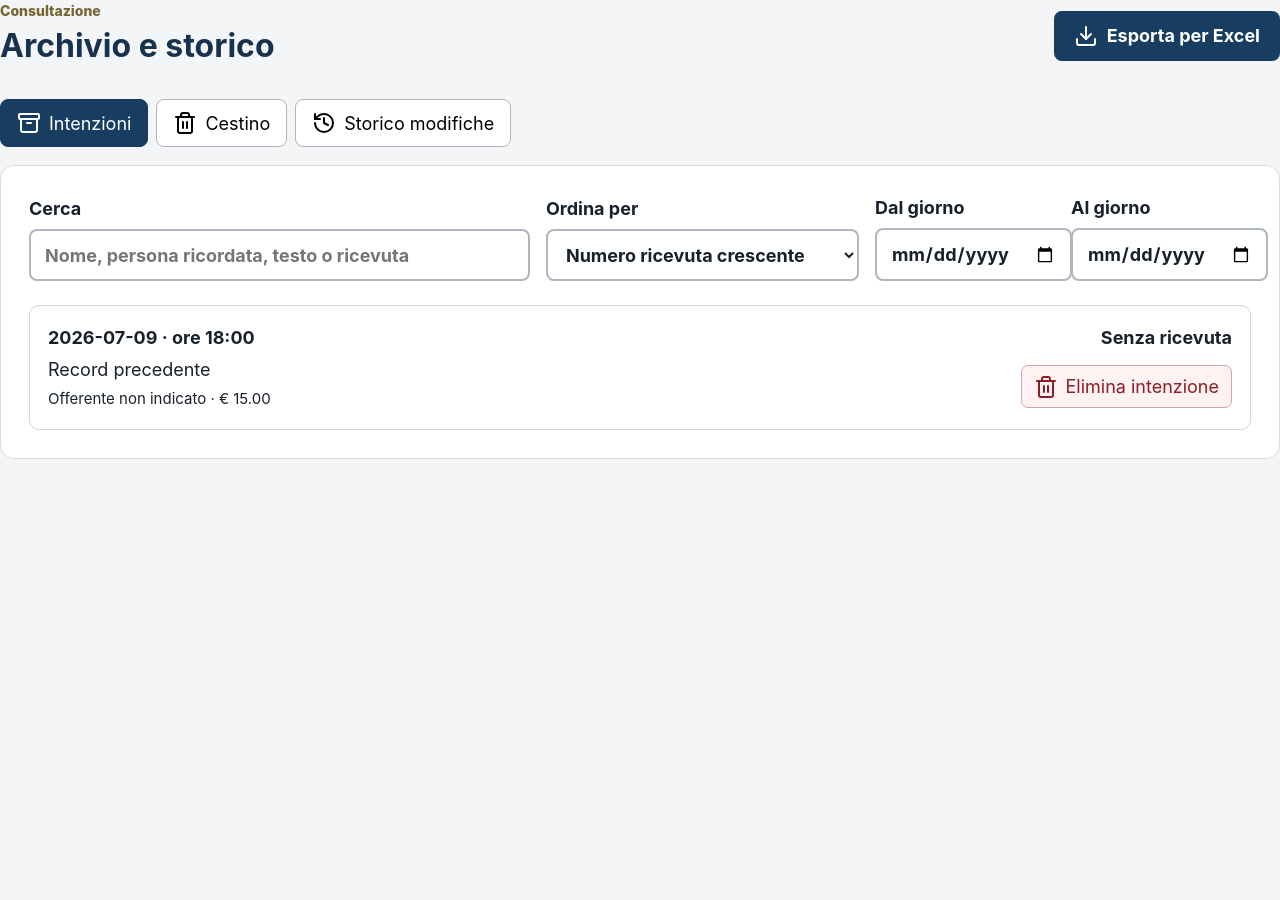
it: archivio con ricevuta mancante › propone di eliminare l'intenzione invece di annullare una ricevuta inesistente
Expected: the text "Senza ricevuta" is shown, [1101, 327, 1232, 348]
Click the button "Elimina intenzione".
click(1127, 387)  # box [1022, 365, 1232, 408]
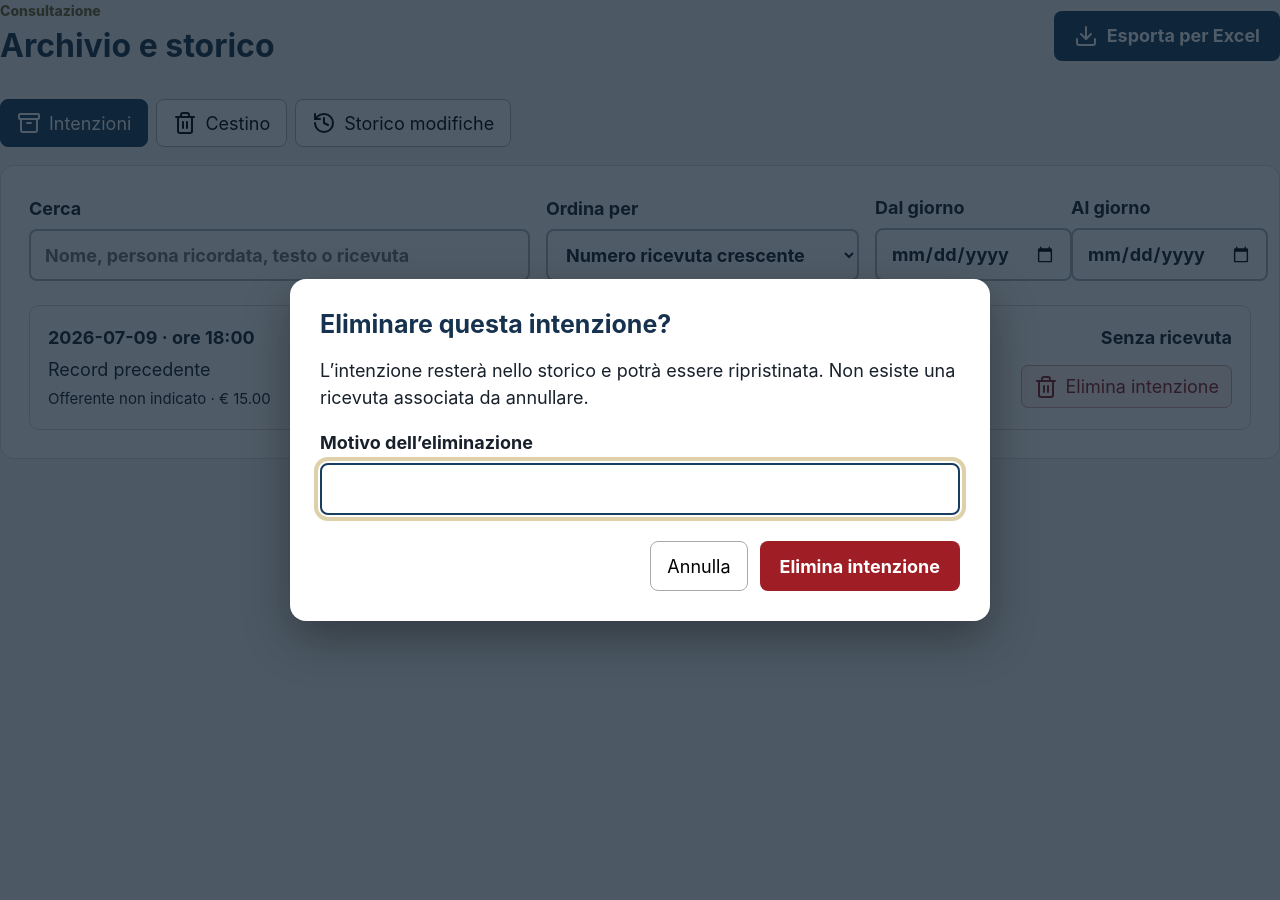
Expected: the dialog "Eliminare questa intenzione" is shown, [290, 279, 990, 621]
